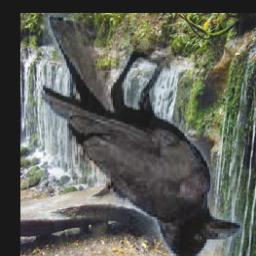Crow: (42, 14, 243, 256)
